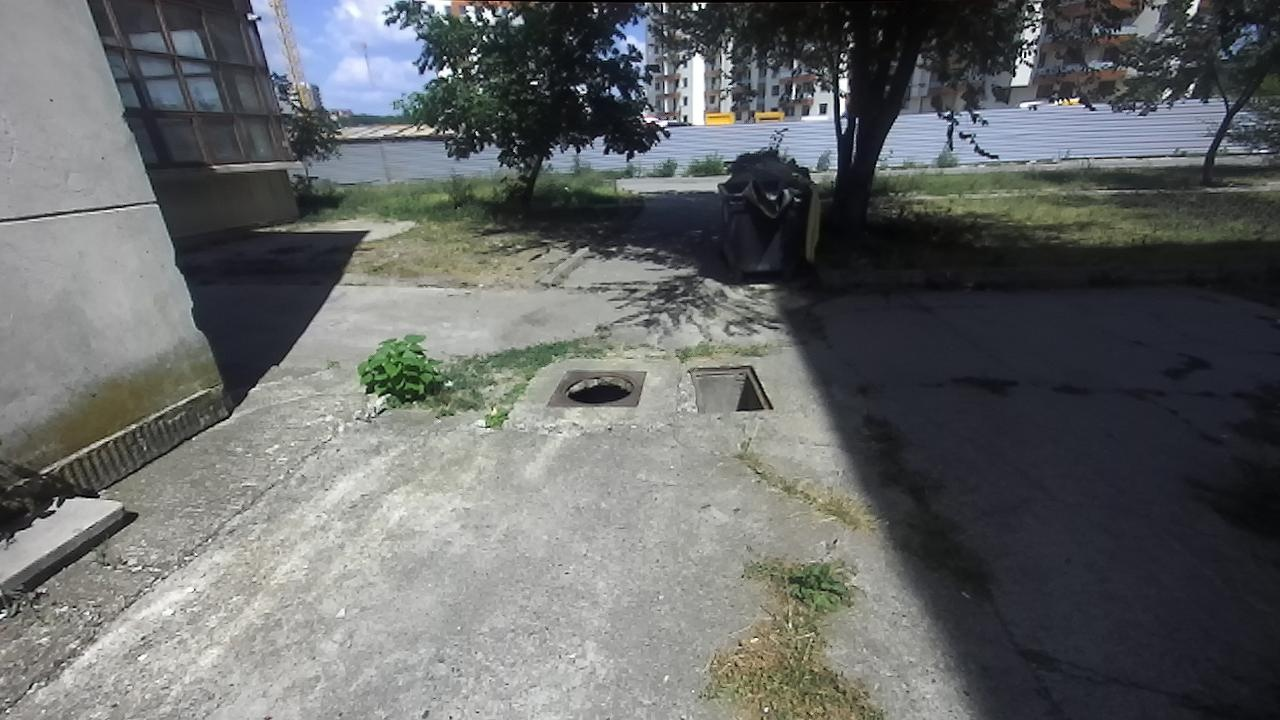drain: (685, 364, 777, 414), (559, 368, 641, 403)
